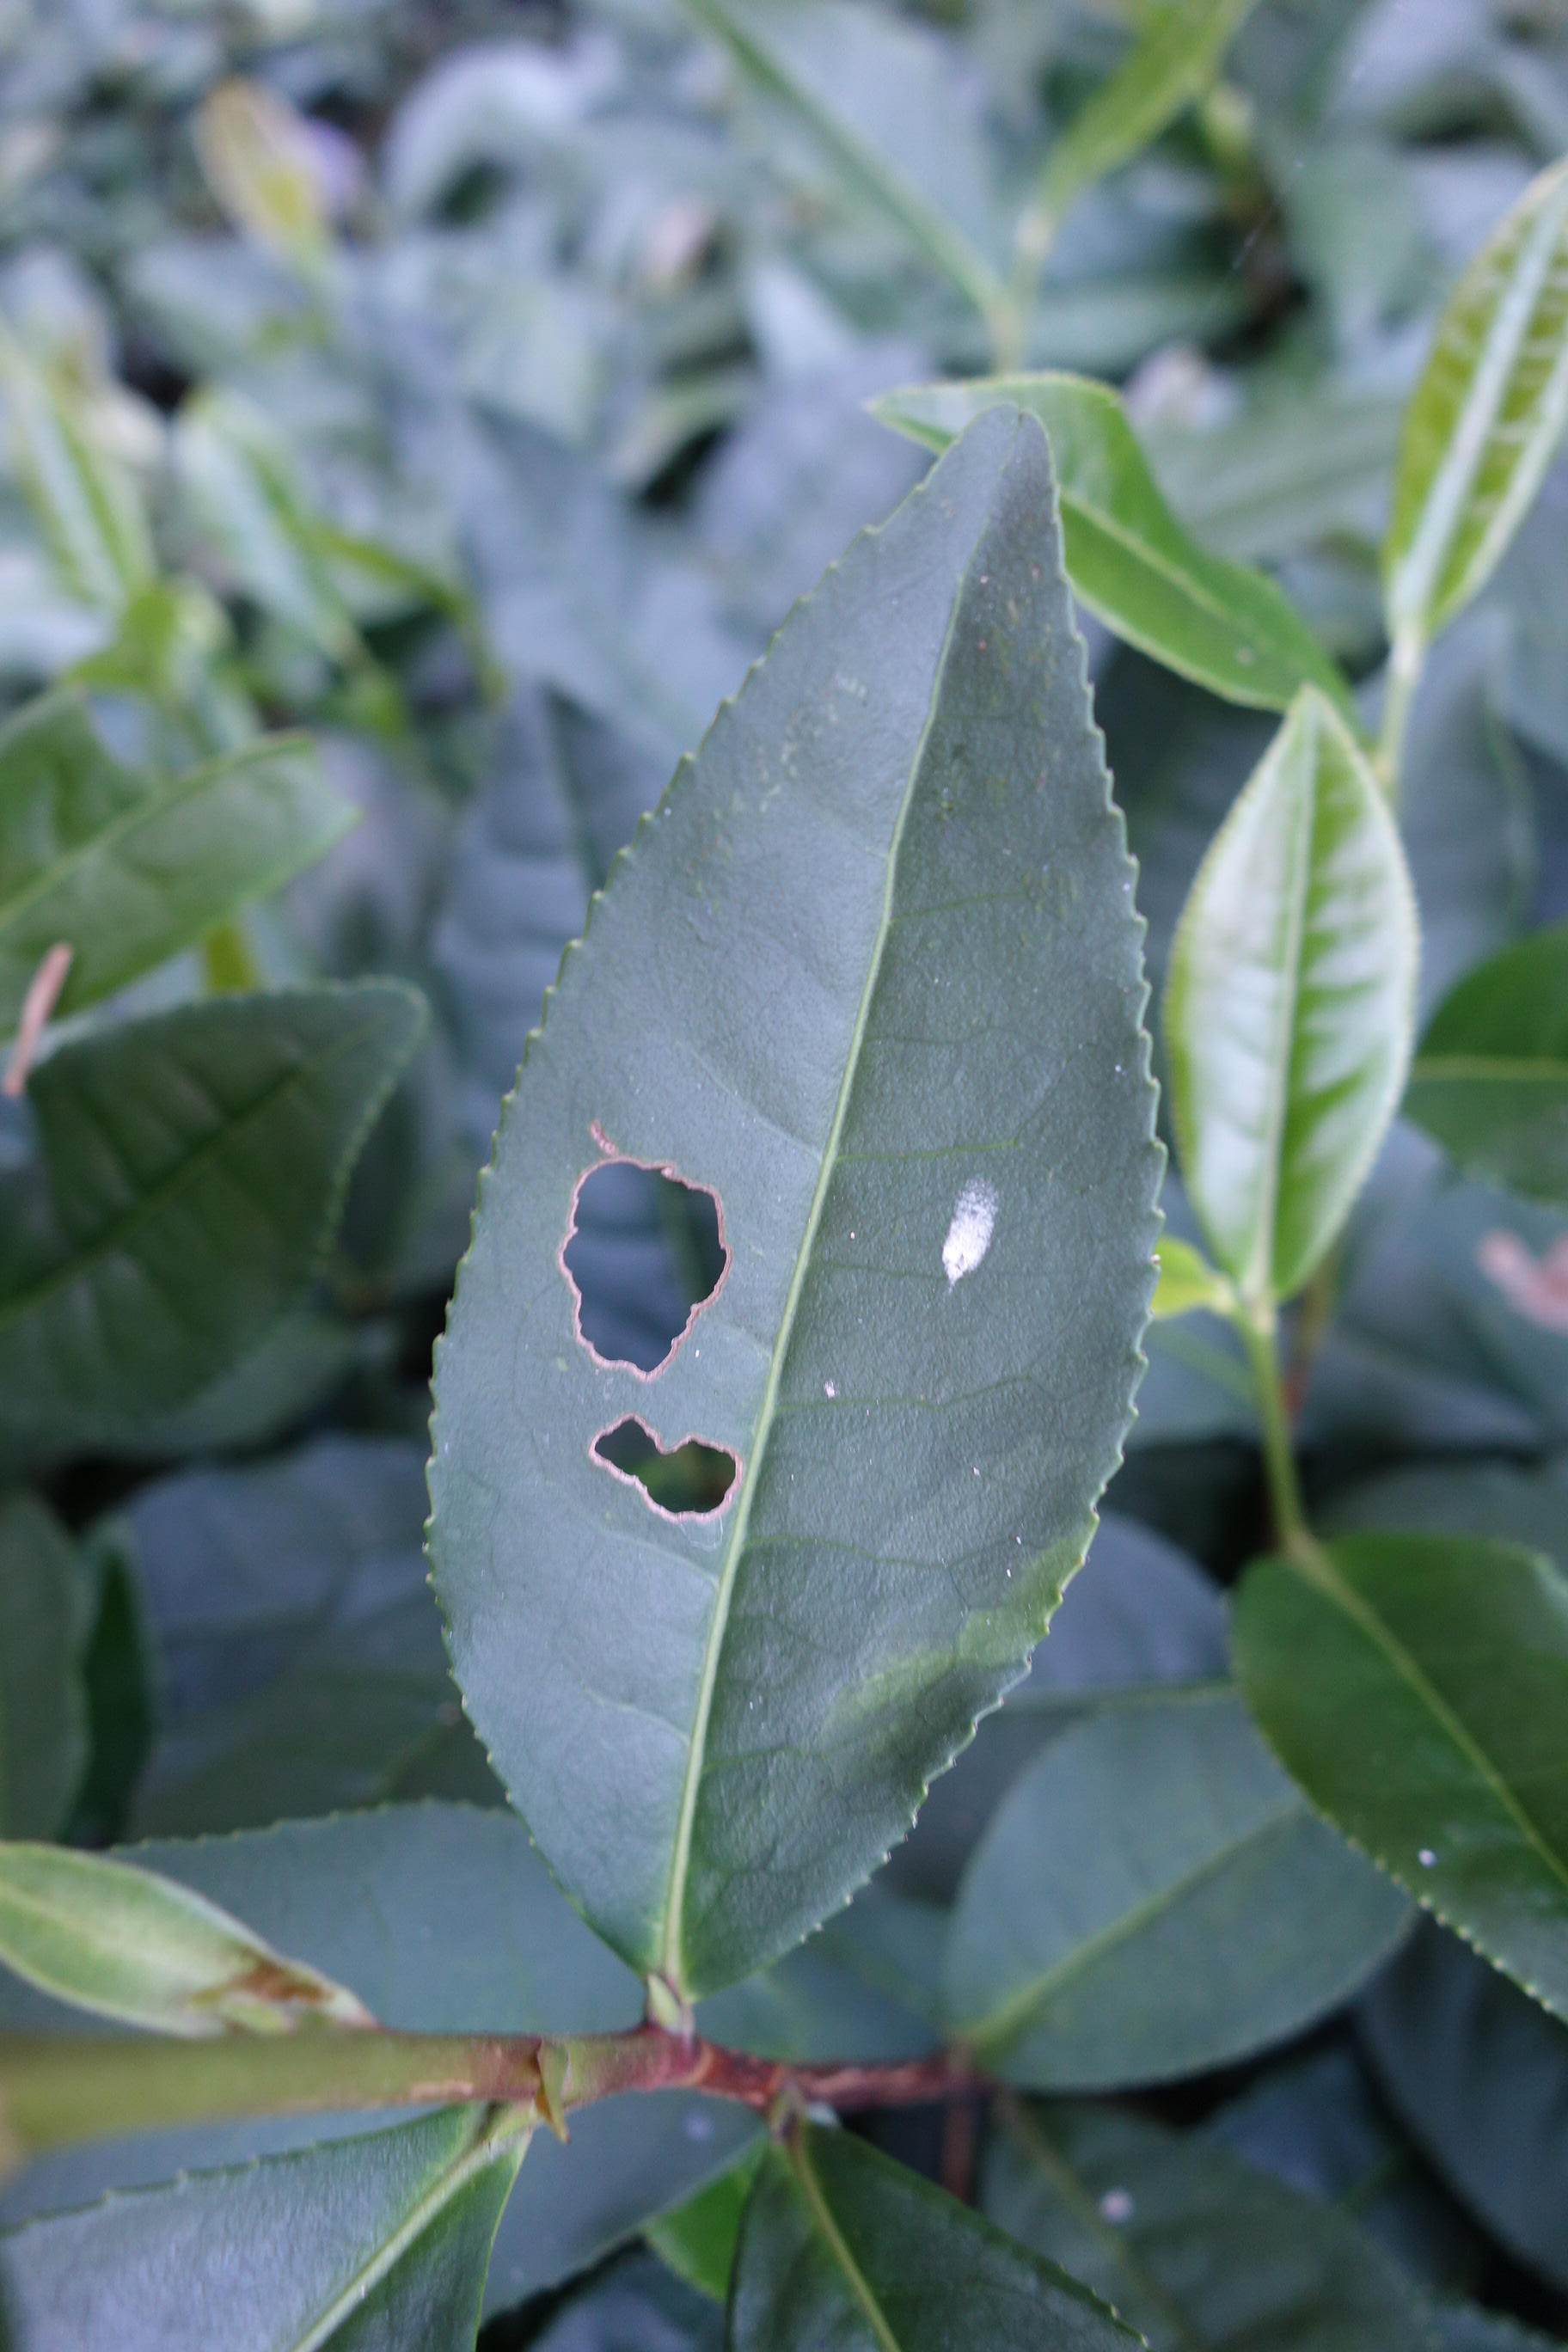chihuo_high: (415, 397, 1169, 2040)
